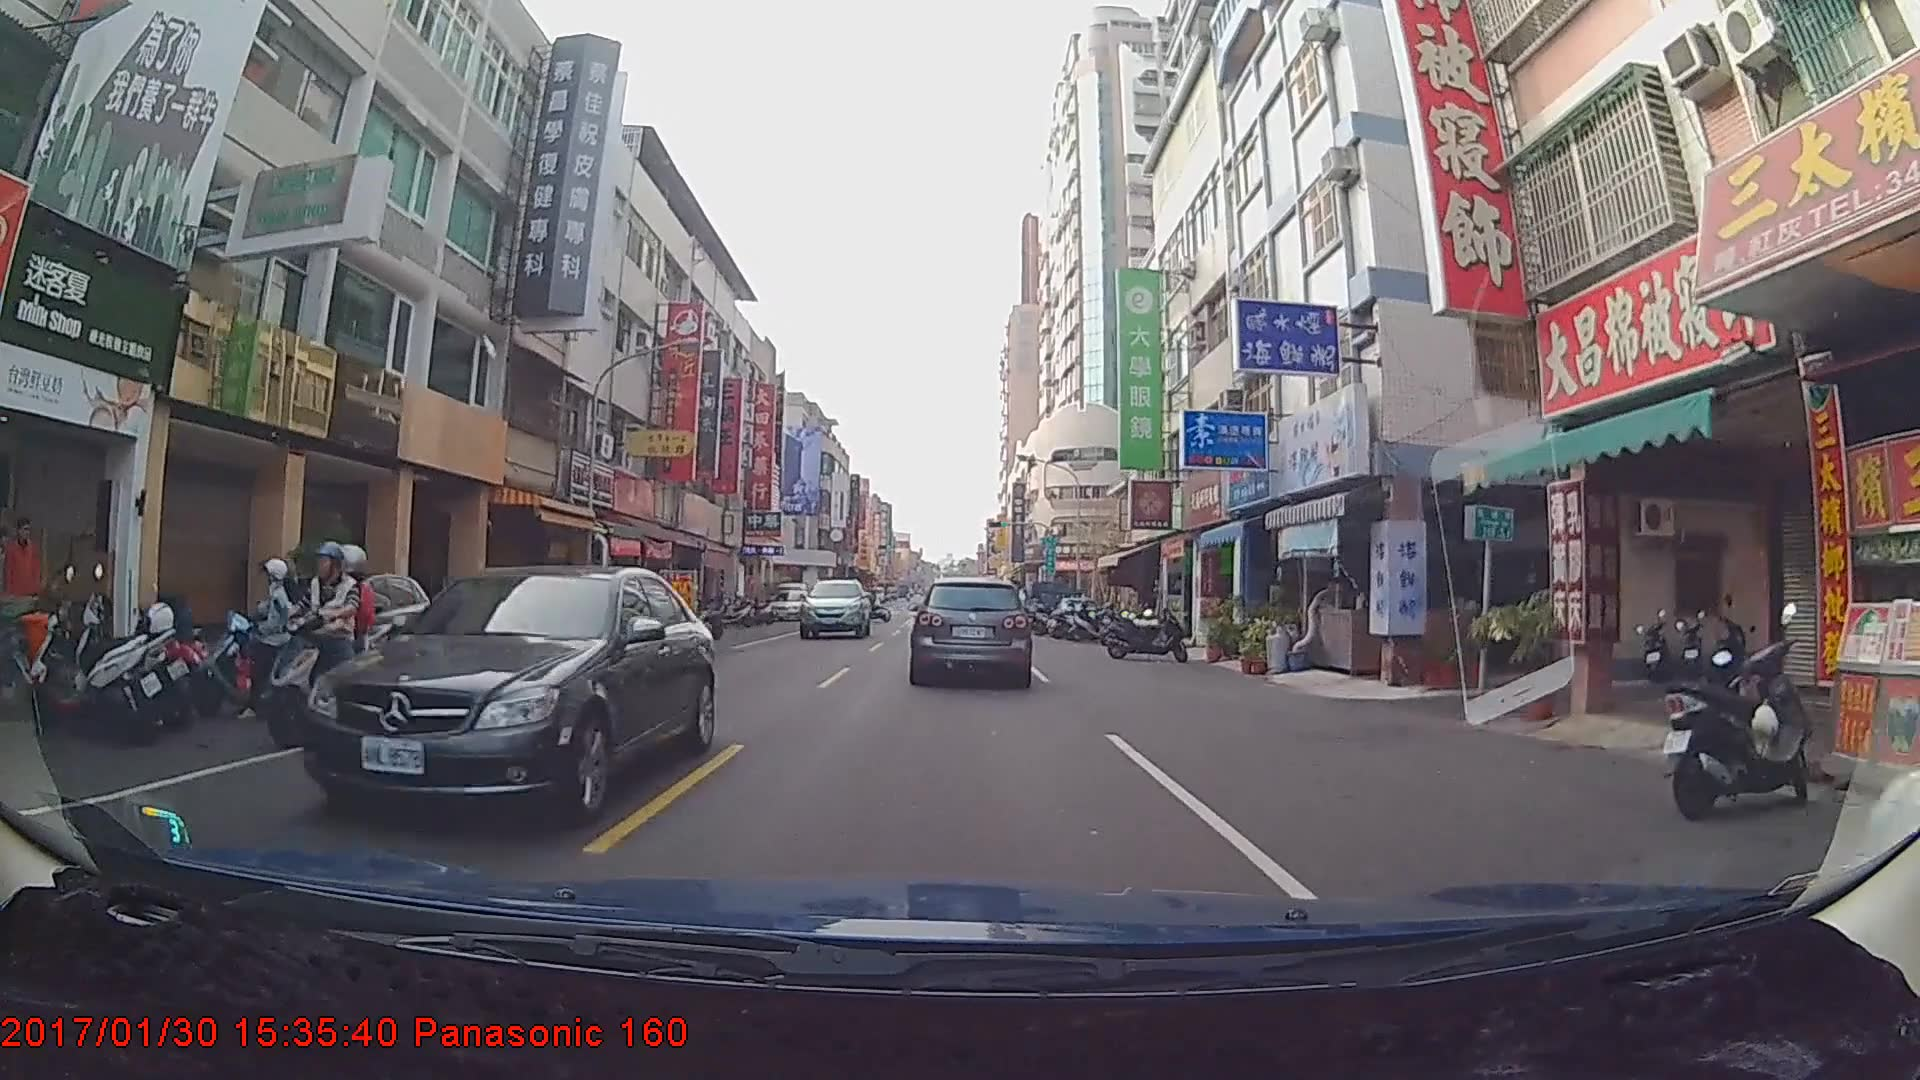pedestrian: (1, 508, 48, 648)
rider: (259, 540, 389, 747)
vehicle: (301, 562, 717, 825), (910, 575, 1030, 685), (800, 577, 870, 641), (1024, 574, 1078, 623)
